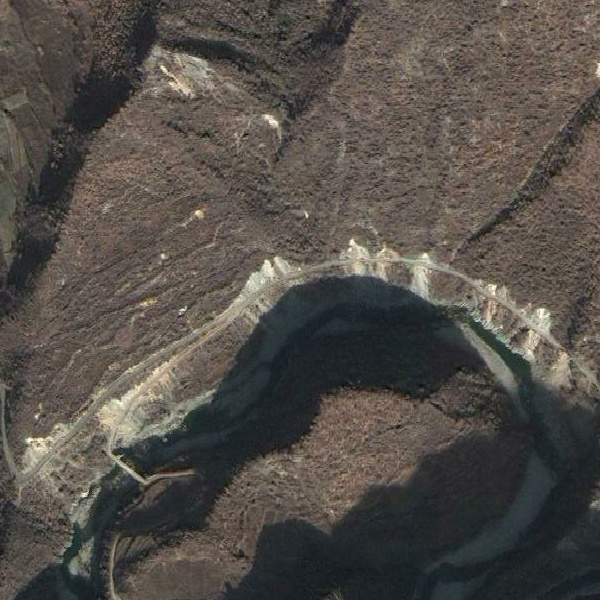slope: (467, 277, 573, 392), (93, 358, 214, 450), (238, 254, 318, 332), (337, 236, 404, 309), (154, 50, 226, 106), (18, 423, 70, 469), (411, 249, 435, 311), (257, 109, 287, 146)
